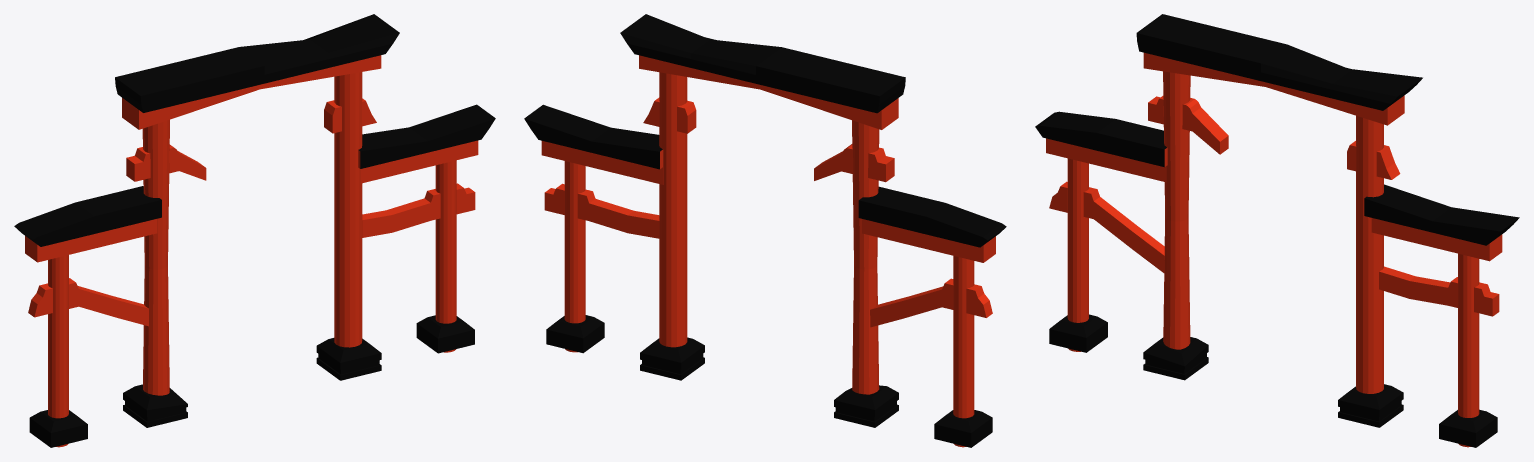
Rendered from Japanese Torii_broken.fbx.
3 renders of one model, left to right at view 1: azimuth 30°, elevation 25°; view 2: azimuth 150°, elevation 25°; view 3: azimuth 330°, elevation 25°, orthographic.
Parts seen in each view (by area): view 1: Japanese Torii broken; view 2: Japanese Torii broken; view 3: Japanese Torii broken.
Part boxes in pixels (left/top/right/bottom): Japanese Torii broken: left=14, top=14, right=495, bottom=447; Japanese Torii broken: left=524, top=14, right=1006, bottom=447; Japanese Torii broken: left=1035, top=14, right=1519, bottom=447.
Size of what is drawn, in the model's own units: 1006 by 703 by 97.18.
